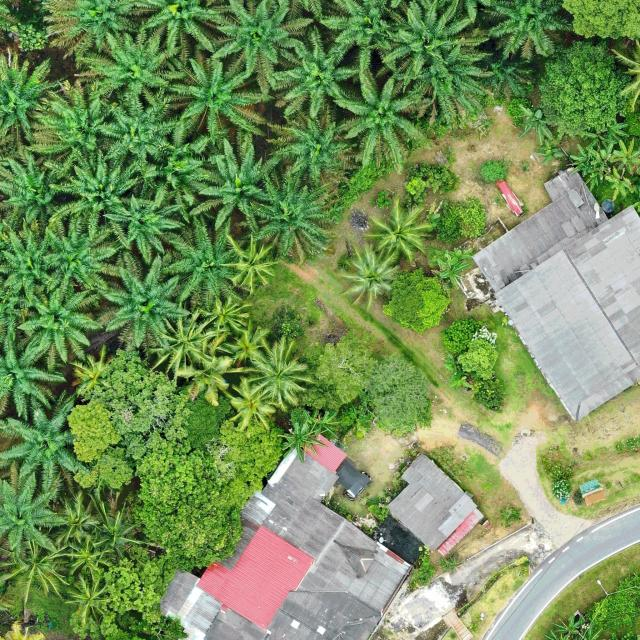Tree: (131, 450, 241, 575), (92, 346, 195, 460), (334, 65, 430, 173), (95, 251, 194, 353), (164, 54, 266, 152), (155, 208, 251, 312), (372, 0, 493, 81), (77, 19, 187, 106), (210, 0, 316, 83), (189, 135, 282, 228), (47, 153, 141, 245), (0, 394, 90, 490), (252, 167, 340, 264), (29, 74, 121, 164), (539, 38, 620, 138), (17, 281, 103, 369), (271, 30, 355, 118), (267, 104, 356, 187), (0, 49, 70, 149), (412, 43, 497, 124), (37, 213, 117, 299), (101, 183, 187, 263), (207, 420, 281, 512), (0, 462, 68, 561), (366, 350, 434, 438), (0, 333, 67, 422), (98, 95, 184, 164), (0, 221, 68, 306), (234, 338, 314, 410), (362, 192, 435, 266), (484, 0, 563, 62), (0, 149, 61, 229), (381, 266, 451, 334), (142, 312, 216, 376), (336, 240, 402, 310), (130, 142, 203, 205), (104, 553, 176, 613), (0, 538, 66, 602), (314, 340, 375, 408), (222, 230, 280, 292), (220, 376, 277, 434), (66, 403, 120, 463), (44, 490, 100, 546), (62, 571, 116, 628), (182, 395, 234, 449), (69, 344, 119, 399), (435, 198, 487, 243), (200, 294, 252, 332), (65, 535, 113, 576), (458, 339, 498, 379), (440, 317, 481, 354), (516, 104, 552, 144), (582, 122, 630, 150), (470, 376, 507, 412), (437, 254, 473, 290), (282, 424, 319, 459), (274, 304, 306, 340), (303, 408, 340, 439), (611, 139, 640, 175), (591, 143, 622, 175), (605, 166, 632, 202), (568, 145, 599, 176), (536, 138, 565, 164), (478, 159, 508, 184), (498, 503, 523, 529), (550, 479, 574, 503), (551, 614, 581, 633), (578, 623, 606, 640), (448, 247, 473, 265)
